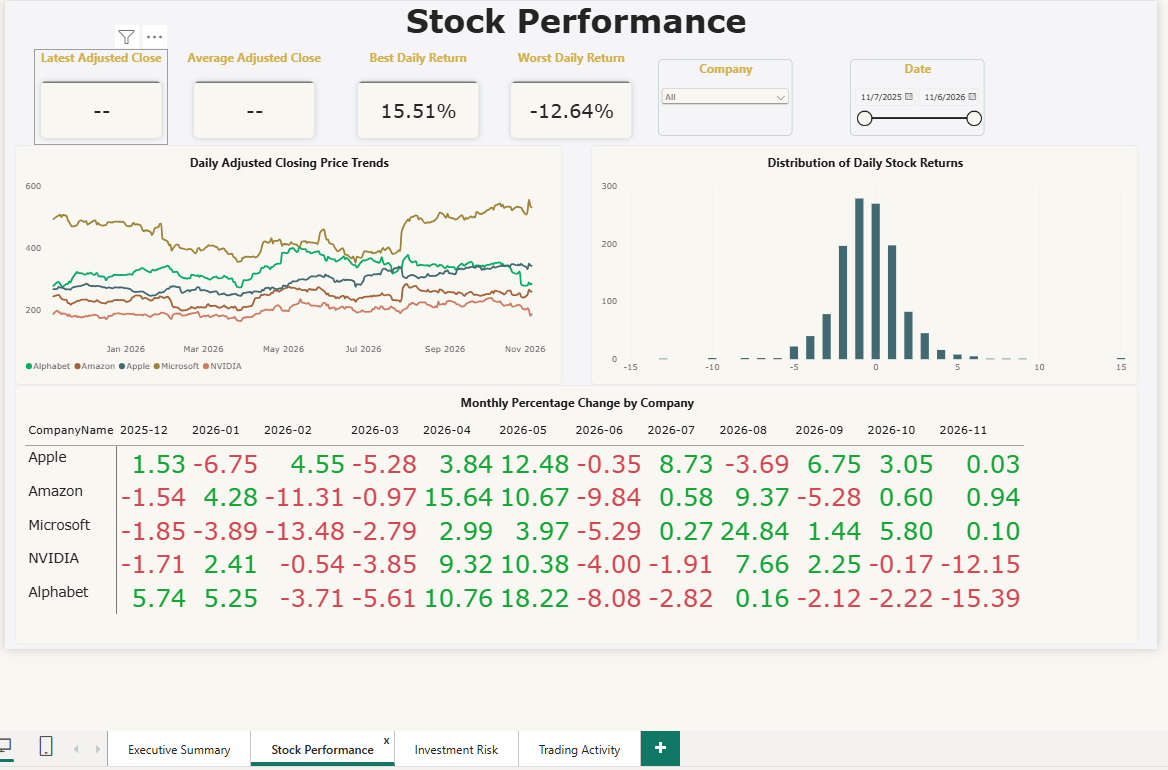

What the dashboard file says about the page in this screenshot:
{"tool":"powerbi","page":{"name":"Stock Performance","canvas":[1920,1080],"ordinal":1},"visuals":[{"type":"cardVisual","title":"Latest Adjusted Close","fields":{"Data":["Measure Table.Latest Adjusted Close"]},"box":[48,80,224,160],"z":0},{"type":"textbox","box":[0,0,1904,80],"z":1000},{"type":"cardVisual","title":"Average Adjusted Close","fields":{"Data":["Measure Table.Average Adjusted Close"]},"box":[304,80,224,160],"z":2000},{"type":"cardVisual","title":"Best Daily Return","fields":{"Data":["Measure Table.Best Daily Return"]},"box":[576,80,224,160],"z":3000},{"type":"cardVisual","title":"Worst Daily Return","fields":{"Data":["Measure Table.Worst Daily Return"]},"box":[832,80,224,160],"z":4000},{"type":"lineChart","title":"Daily Adjusted Closing Price Trends","fields":{"Category":["LocalDateTable_cead320a-16ea-40d0-a2f5-06fa50b2885f.Date"],"Series":["DimCompany.CompanyName"],"Y":["Measure Table.Average Adjusted Close"]},"box":[16,240,912,400],"z":5000},{"type":"clusteredColumnChart","title":"Distribution of Daily Stock Returns","fields":{"Category":["FactStockPrices.DailyReturn (bins)"],"Y":["CountNonNull(FactStockPrices.StockPriceID)"]},"box":[976,240,912,400],"z":6000},{"type":"pivotTable","title":"Monthly Percentage Change by Company","fields":{"Columns":["vw_Monthly_Returns.Year-Month"],"Rows":["DimCompany.CompanyName"],"Values":["Sum(vw_Monthly_Returns.MonthlyPercentageChange)"]},"box":[16,640,1872,432],"z":7000},{"type":"slicer","title":"Company","fields":{"Values":["DimCompany.CompanyName"]},"box":[1088,96,224,128],"z":8000},{"type":"slicer","title":"Date","fields":{"Values":["DimDate.Date"]},"box":[1408,96,224,128],"z":9000}]}

Visuals, with their boxes on the page's 1920x1080 design canvas (x1, y1, x2, y2). These are canvas units, not pixel positions in the 1168x770 screenshot, which may show the page scaled, cropped or inside an application window:
"Latest Adjusted Close" cardVisual: pyautogui.locateOnScreen(48, 80, 272, 240)
textbox: pyautogui.locateOnScreen(0, 0, 1904, 80)
"Average Adjusted Close" cardVisual: pyautogui.locateOnScreen(304, 80, 528, 240)
"Best Daily Return" cardVisual: pyautogui.locateOnScreen(576, 80, 800, 240)
"Worst Daily Return" cardVisual: pyautogui.locateOnScreen(832, 80, 1056, 240)
"Daily Adjusted Closing Price Trends" lineChart: pyautogui.locateOnScreen(16, 240, 928, 640)
"Distribution of Daily Stock Returns" clusteredColumnChart: pyautogui.locateOnScreen(976, 240, 1888, 640)
"Monthly Percentage Change by Company" pivotTable: pyautogui.locateOnScreen(16, 640, 1888, 1072)
"Company" slicer: pyautogui.locateOnScreen(1088, 96, 1312, 224)
"Date" slicer: pyautogui.locateOnScreen(1408, 96, 1632, 224)
